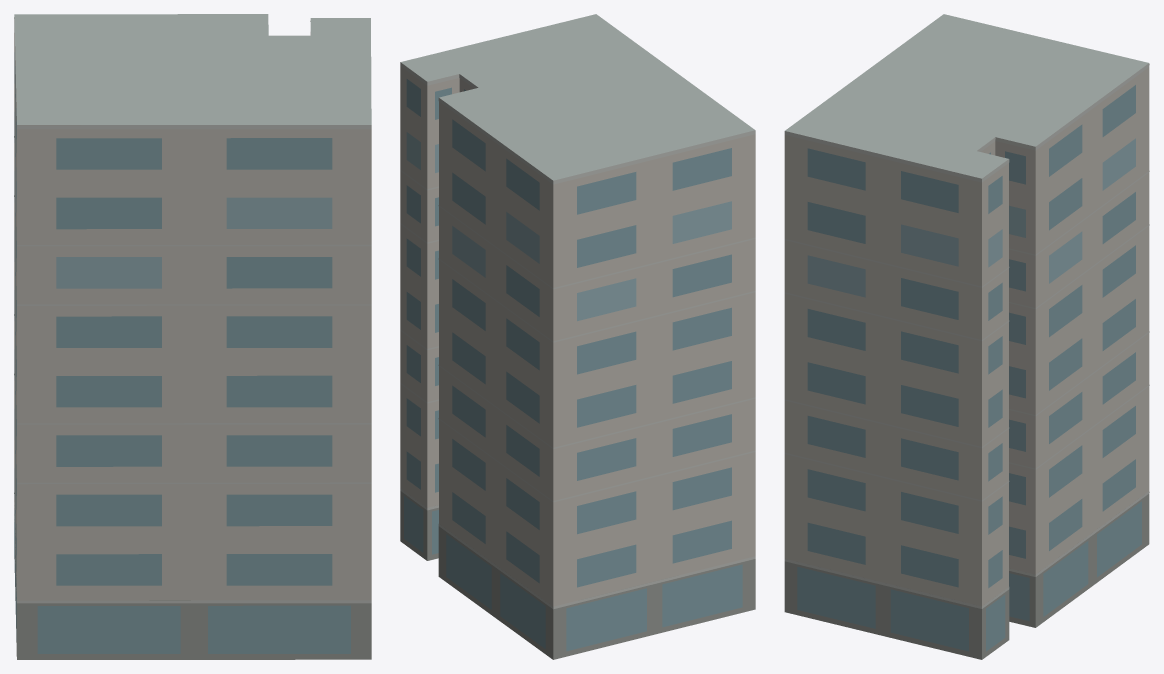
File: survey-upis-32973003.glb
The picture shows the model from 3 angles, left to right: view 1: azimuth 30°, elevation 25°; view 2: azimuth 150°, elevation 25°; view 3: azimuth 270°, elevation 25°; orthographic projection. The views are drawn at different scales.
Visible parts, largest first — view 1: survey-upis-32973003.tmp; view 2: survey-upis-32973003.tmp; view 3: survey-upis-32973003.tmp.
Part boxes in pixels (x1,y1,x2,y2): survey-upis-32973003.tmp: (14, 14, 371, 659); survey-upis-32973003.tmp: (400, 14, 755, 659); survey-upis-32973003.tmp: (784, 14, 1149, 659).
Bounding box in the file's own units: 21.97 × 29.9 × 20.56.
